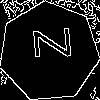Z: (24, 26, 71, 61)
